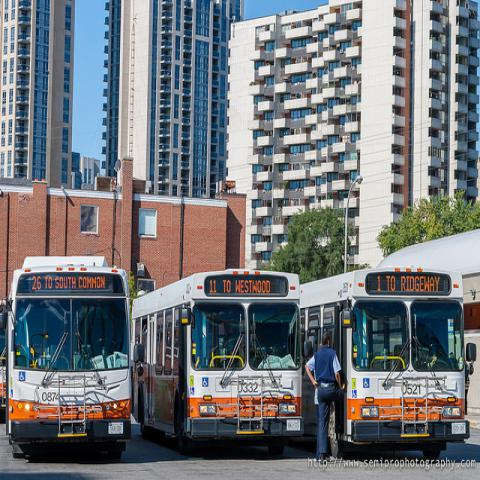bus: (129, 268, 304, 458), (300, 266, 472, 444), (5, 256, 130, 441)
